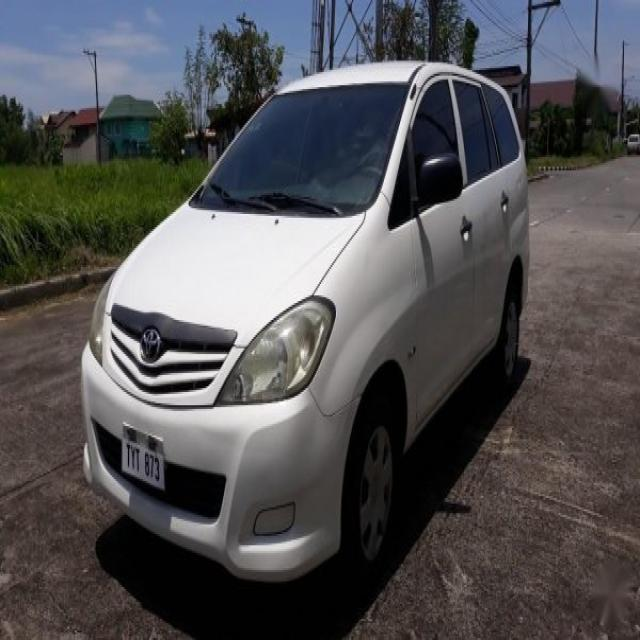light_vehicle: (80, 58, 530, 584)
